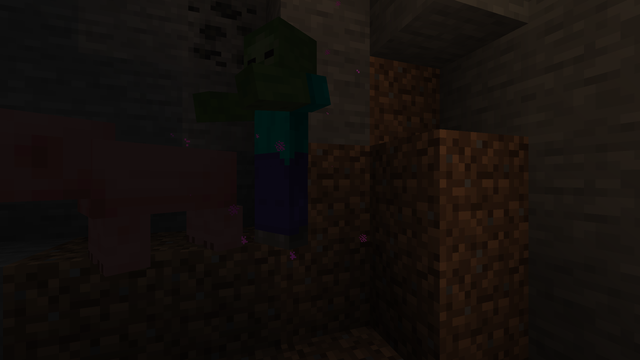cochons: (64, 135, 221, 279)
zombies: (246, 19, 319, 253)
